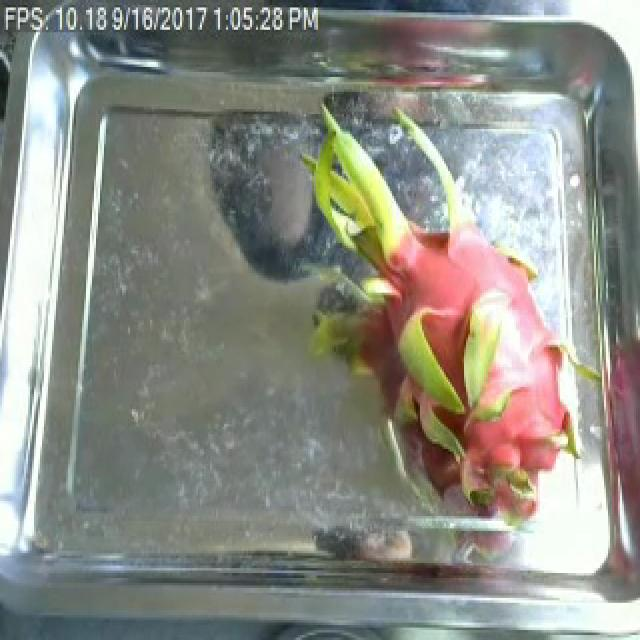fruit: (286, 112, 600, 538)
